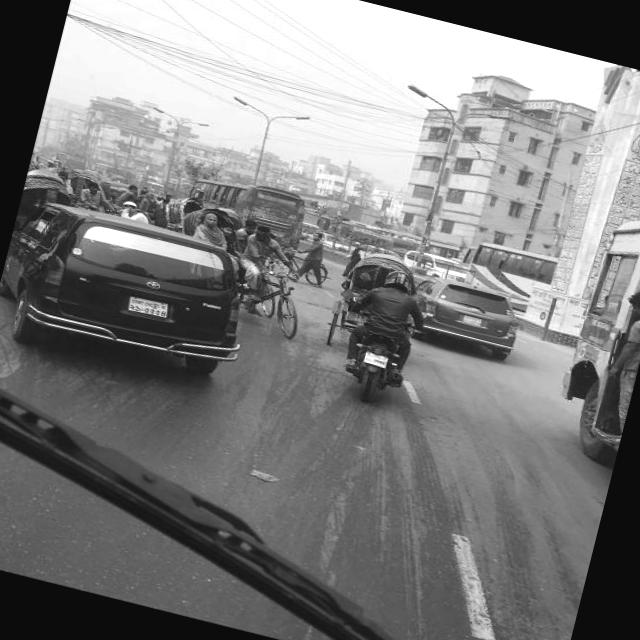bus: (456, 234, 564, 318), (183, 164, 310, 226), (324, 215, 384, 252), (48, 146, 88, 168)
car: (0, 190, 263, 398), (400, 269, 530, 363), (393, 244, 470, 282)
motorcycle: (328, 257, 438, 418), (63, 163, 144, 210), (160, 194, 204, 230)
